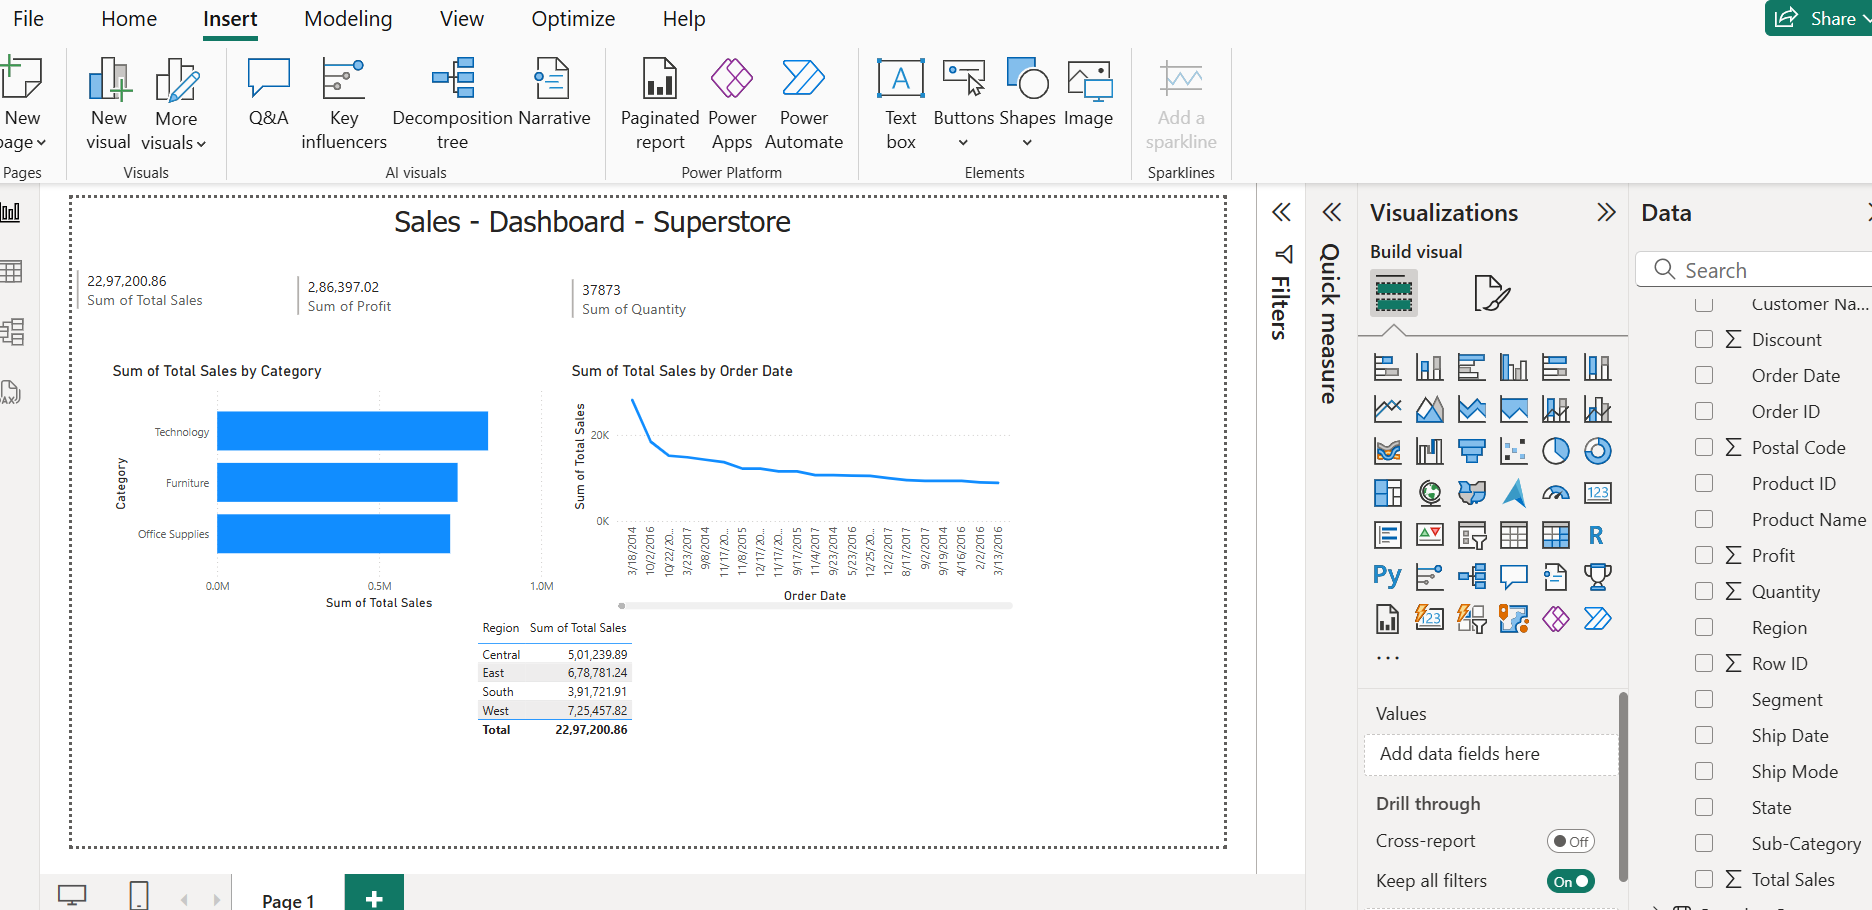

Layout of this report page (visuals, bound fields, positions):
{"tool":"powerbi","page":{"name":"Page 1","canvas":[1280,720],"ordinal":0},"visuals":[{"type":"multiRowCard","fields":{"Values":["Sum(Sample - Superstore.Sales)"]},"box":[0,75,280,280],"z":0},{"type":"multiRowCard","fields":{"Values":["Sum(Sample - Superstore.Profit)"]},"box":[245,75,280,150],"z":1000},{"type":"multiRowCard","fields":{"Values":["Sum(Sample - Superstore.Quantity)"]},"box":[550,85,280,280],"z":2000},{"type":"clusteredBarChart","fields":{"Category":["Sample - Superstore.Category"],"Y":["Sum(Sample - Superstore.Total Sales)"]},"box":[40,181.7,500,280],"z":3000},{"type":"lineChart","fields":{"Y":["Sum(Sample - Superstore.Total Sales)"],"Category":["Sample - Superstore.Order Date"]},"box":[550,181.7,500,280],"z":4000},{"type":"tableEx","fields":{"Values":["Sample - Superstore.Region","Sum(Sample - Superstore.Total Sales)"]},"box":[445,461.7,280,230],"z":5000},{"type":"textbox","box":[353.3,0,463.3,90],"z":6000}]}

Visuals, with their boxes on the page's 1280x720 design canvas (x1, y1, x2, y2). These are canvas units, not pixel positions in the 1872x910 screenshot, which may show the page scaled, cropped or inside an application window:
multiRowCard - Sum(Sample - Superstore.Sales): left=0, top=75, right=280, bottom=355
multiRowCard - Sum(Sample - Superstore.Profit): left=245, top=75, right=525, bottom=225
multiRowCard - Sum(Sample - Superstore.Quantity): left=550, top=85, right=830, bottom=365
clusteredBarChart - Sample - Superstore.Category x Sum(Sample - Superstore.Total Sales): left=40, top=182, right=540, bottom=462
lineChart - Sum(Sample - Superstore.Total Sales) x Sample - Superstore.Order Date: left=550, top=182, right=1050, bottom=462
tableEx - Sample - Superstore.Region x Sum(Sample - Superstore.Total Sales): left=445, top=462, right=725, bottom=692
textbox: left=353, top=0, right=817, bottom=90
